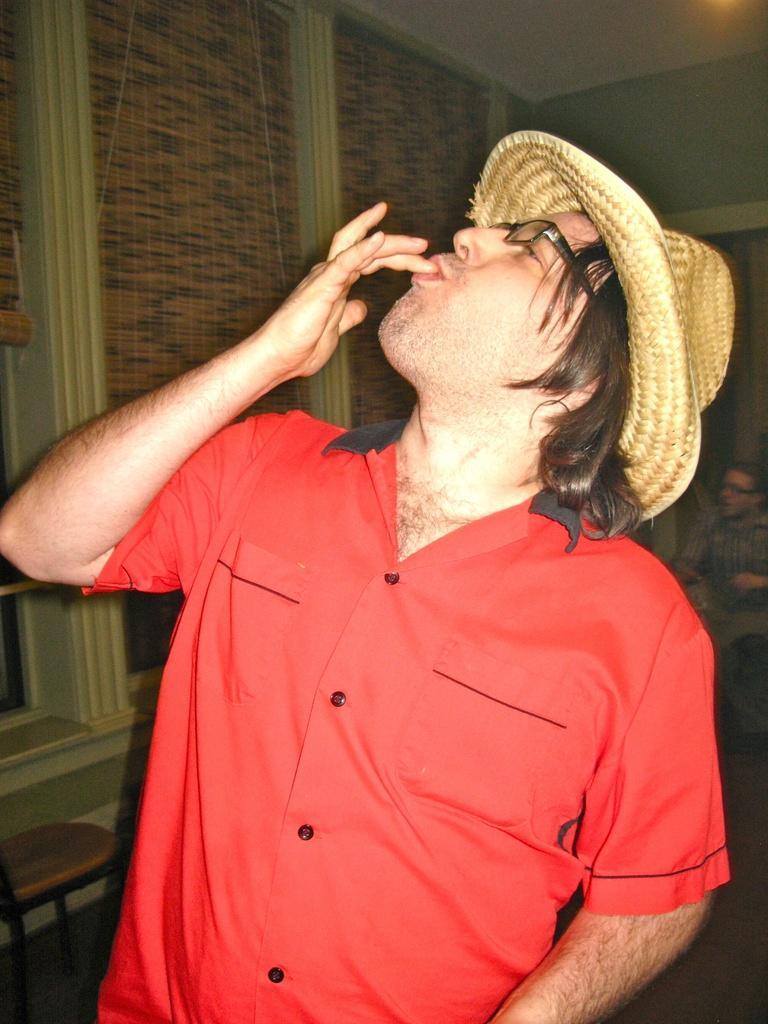Hat: (460, 130, 736, 522)
